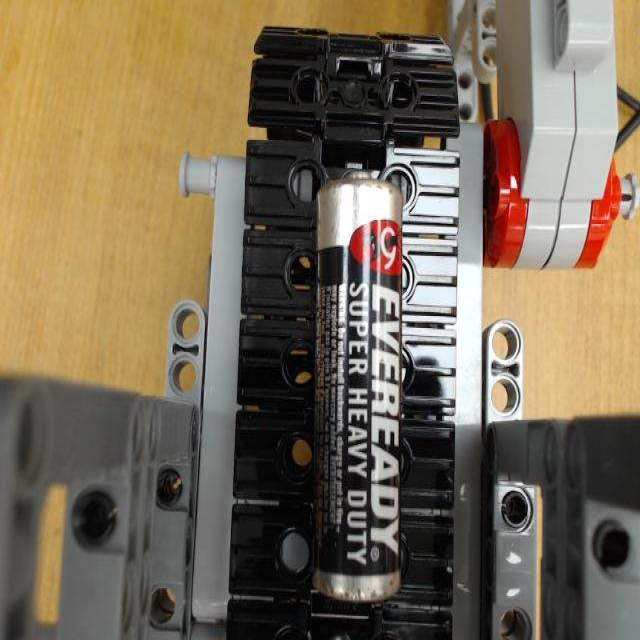AA: (310, 168, 405, 600)
